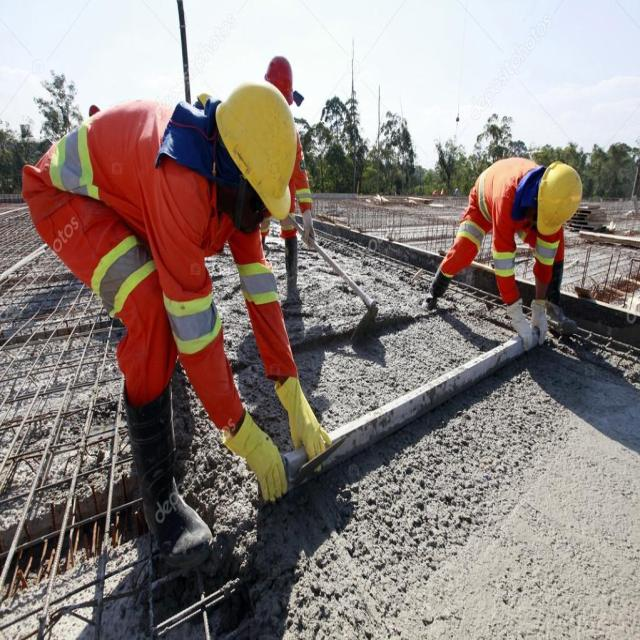Boots: (106, 378, 215, 566), (540, 260, 582, 346), (279, 224, 309, 324), (416, 260, 450, 326)
Gloves: (264, 368, 340, 472), (218, 396, 290, 502), (494, 298, 556, 358), (288, 202, 320, 248)
Hard Hat: (212, 77, 304, 226), (534, 160, 588, 239), (260, 55, 295, 105)
